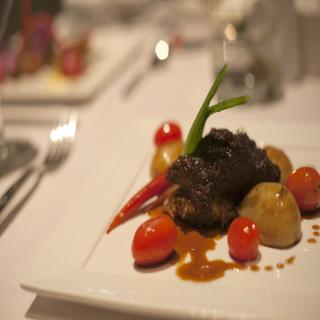tomato: (133, 214, 183, 270), (284, 166, 320, 214), (227, 218, 260, 261)
